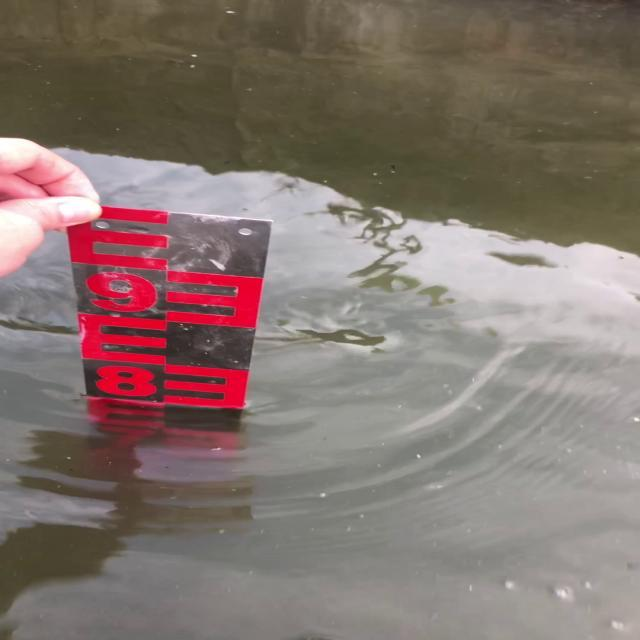ruler: (46, 198, 290, 444)
value: (68, 261, 169, 322), (78, 358, 165, 407)
